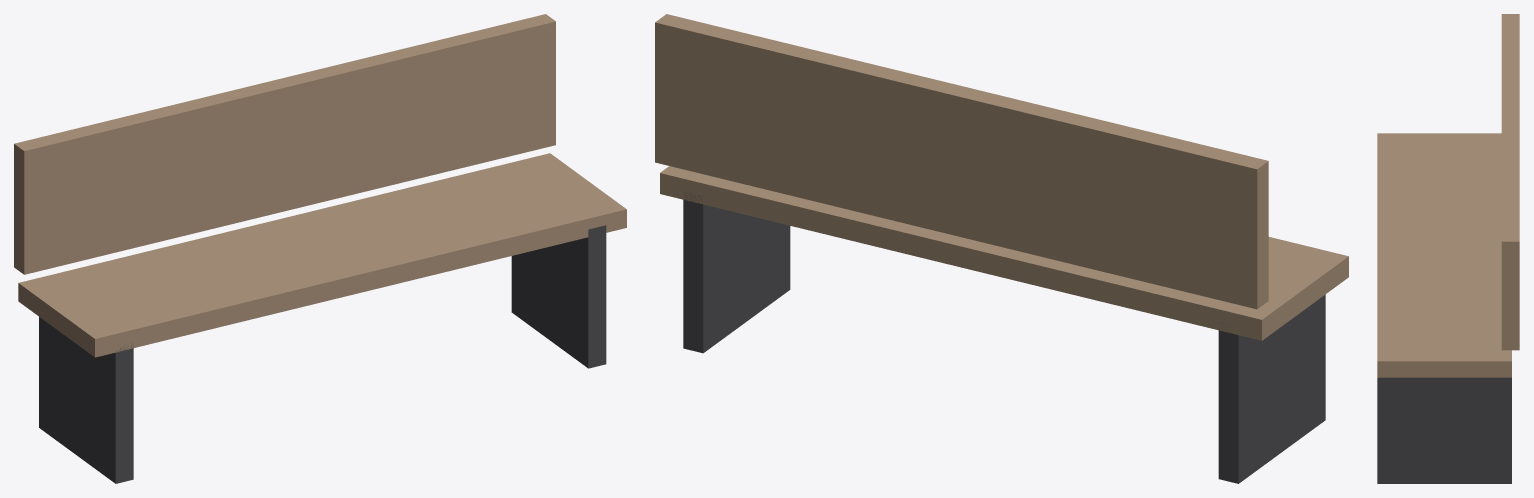
Rendered from SM_Bench.fbx.
The picture shows the model from 3 angles, left to right: view 1: azimuth 30°, elevation 25°; view 2: azimuth 150°, elevation 25°; view 3: azimuth 270°, elevation 25°; orthographic projection. The views are drawn at different scales.
Parts seen in each view (by area): view 1: SM_Bench; view 2: SM_Bench; view 3: SM_Bench.
Boxes of the visible parts, x1,y1,x2,y2 form: SM_Bench: (14, 14, 626, 483); SM_Bench: (655, 14, 1348, 483); SM_Bench: (1377, 14, 1519, 483).
Bounding box in the file's own units: 180 × 92.5 × 47.5.
